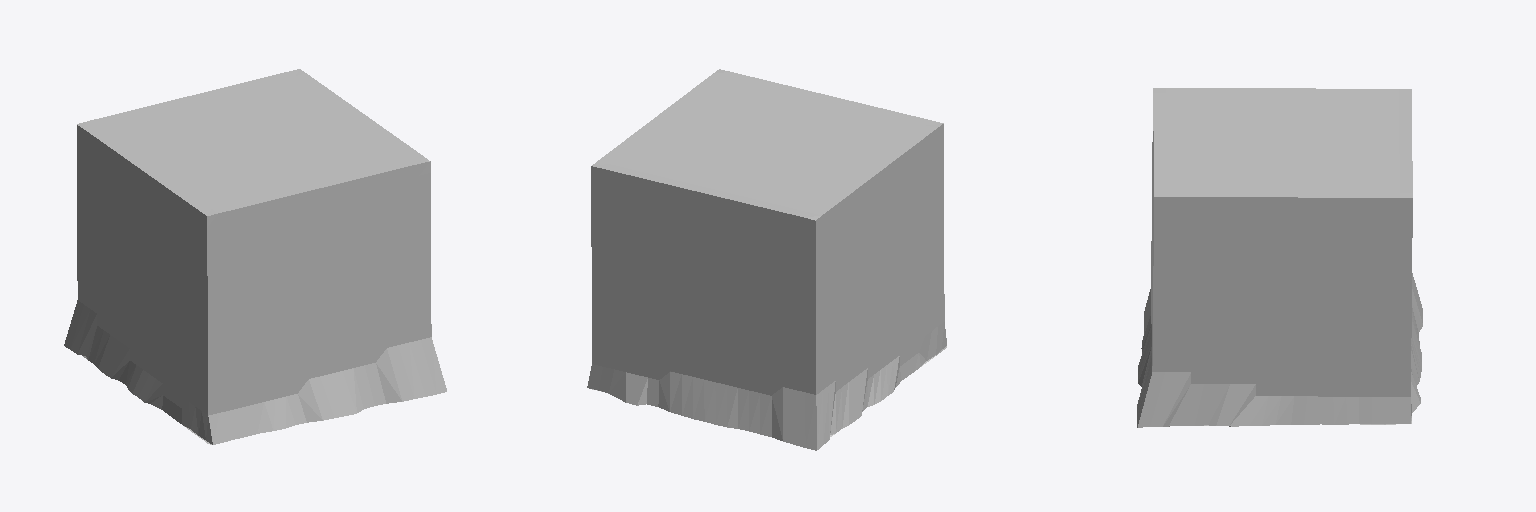
Rendered from mod0123.obj.
The picture shows the model from 3 angles: view 1: azimuth 30°, elevation 25°; view 2: azimuth 150°, elevation 25°; view 3: azimuth 270°, elevation 25°; orthographic projection.
Parts seen in each view (by area): view 1: Box001; view 2: Box001; view 3: Box001.
Boxes of the visible parts, x1,y1,x2,y2 form: Box001: [64, 69, 446, 444]; Box001: [587, 69, 946, 450]; Box001: [1137, 88, 1422, 427].
Bounding box in the file's own units: 0.5799 × 0.523 × 0.5979.